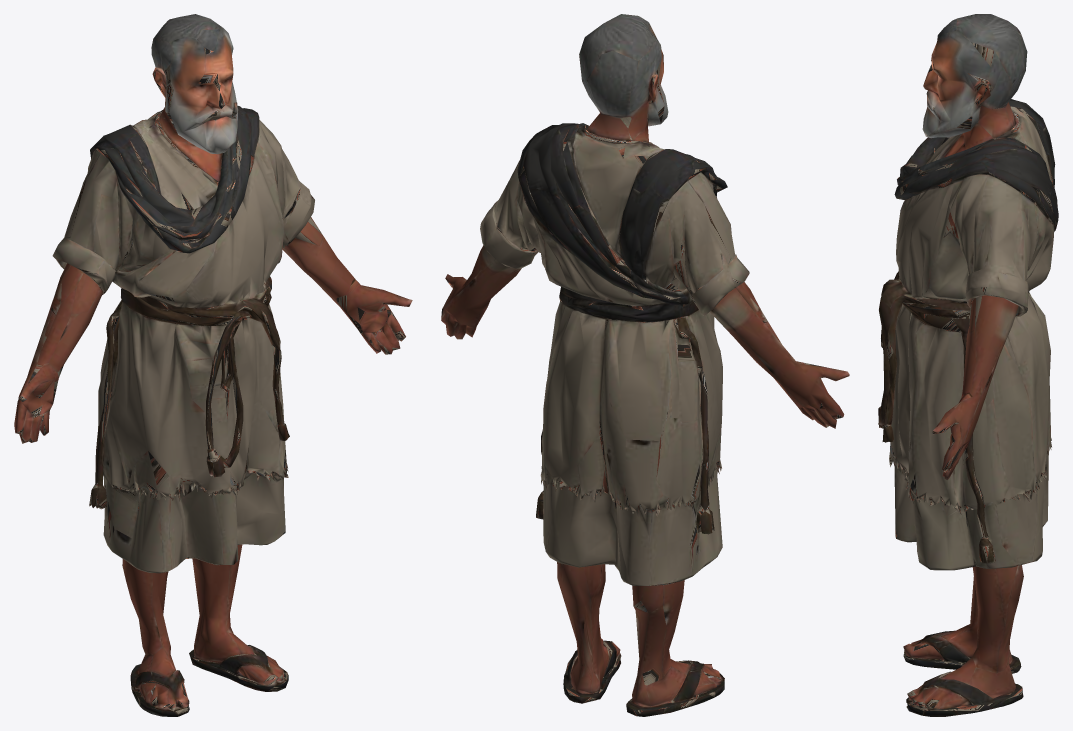
The model's file is artesano.glb.
3 renders of one model, left to right at view 1: azimuth 30°, elevation 25°; view 2: azimuth 150°, elevation 25°; view 3: azimuth 270°, elevation 25°, orthographic. The views are drawn at different scales.
Parts seen in each view (by area): view 1: artesano; view 2: artesano; view 3: artesano.
Boxes of the visible parts, left/top/right/bottom form: artesano: left=14, top=14, right=412, bottom=716; artesano: left=441, top=14, right=849, bottom=716; artesano: left=878, top=14, right=1058, bottom=716.
Size of the model in its own units: 1.13 by 1.8 by 0.4428.
1 material, 1 textured.
